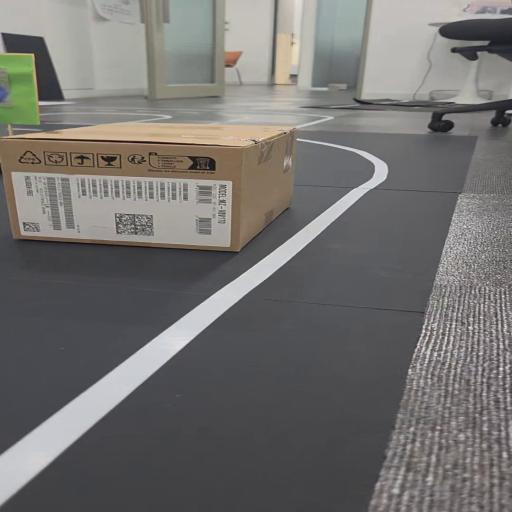Box: (10, 120, 309, 255)
